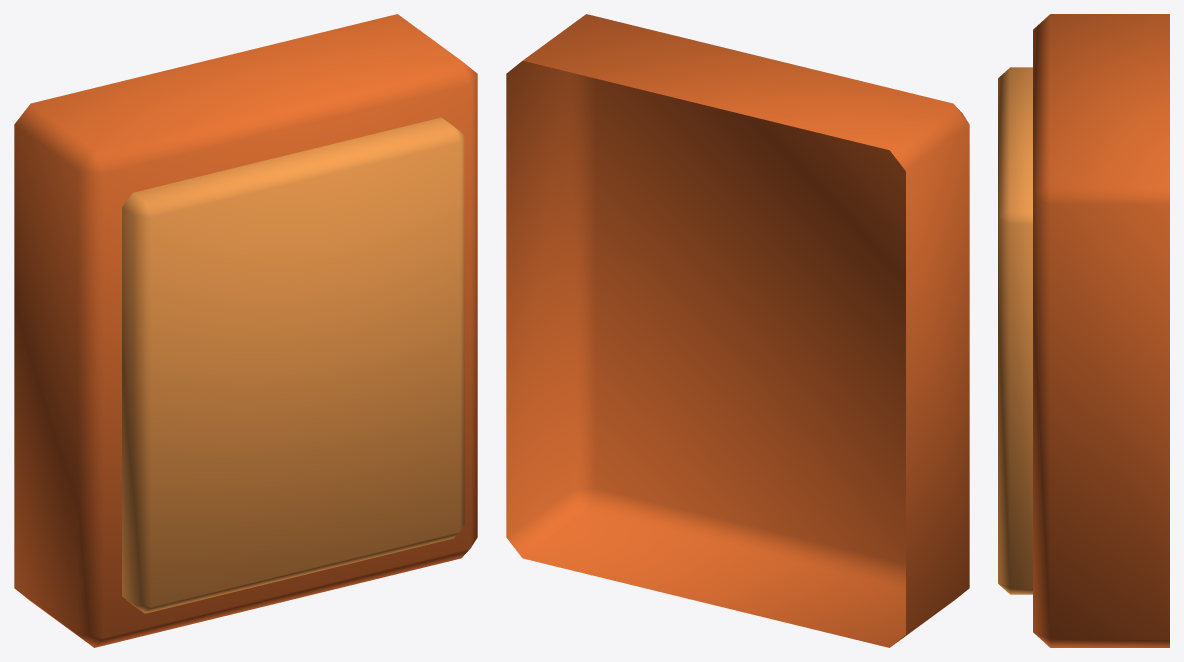
Rendered from ElectricBox_2_E_1.glb.
3 renders of one model, left to right at view 1: azimuth 30°, elevation 25°; view 2: azimuth 150°, elevation 25°; view 3: azimuth 270°, elevation 25°, orthographic. The views are drawn at different scales.
Parts seen in each view (by area): view 1: ElectricBox_2_E_1; view 2: ElectricBox_2_E_1; view 3: ElectricBox_2_E_1.
Part boxes in pixels (box(x1,y1,x2,y2)): ElectricBox_2_E_1: box(14, 14, 477, 647); ElectricBox_2_E_1: box(506, 14, 969, 647); ElectricBox_2_E_1: box(998, 14, 1169, 647).
Size of the model in its own units: 0.3815 by 0.4542 by 0.1517.
1 material, 1 textured.
